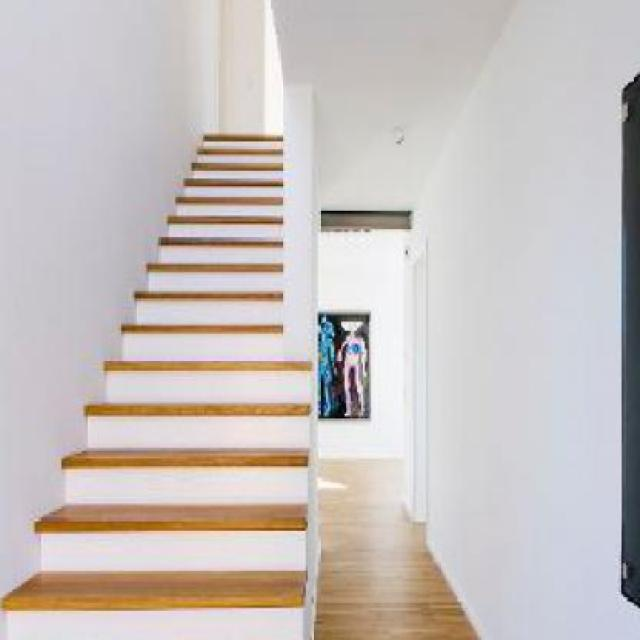stair: (0, 23, 323, 639)
